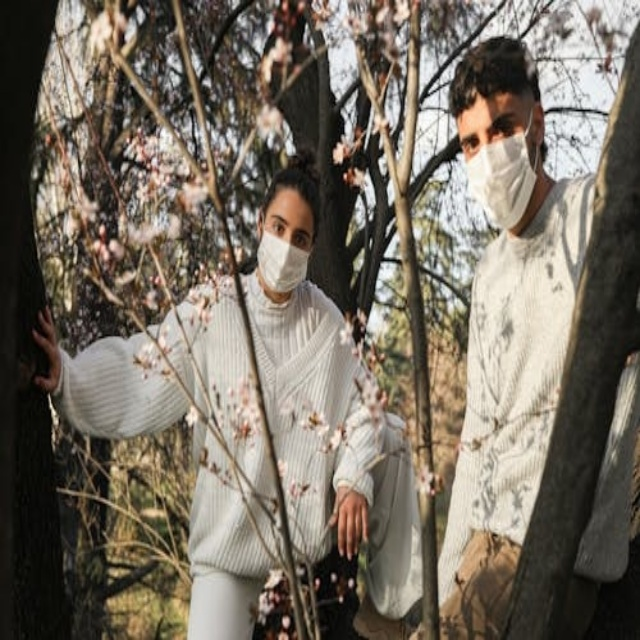Mascara: (463, 108, 540, 229), (256, 223, 312, 294)
Sin_gafas: (465, 102, 517, 154), (265, 208, 312, 254)
Sin_guantes: (29, 307, 63, 393), (334, 486, 369, 557)
